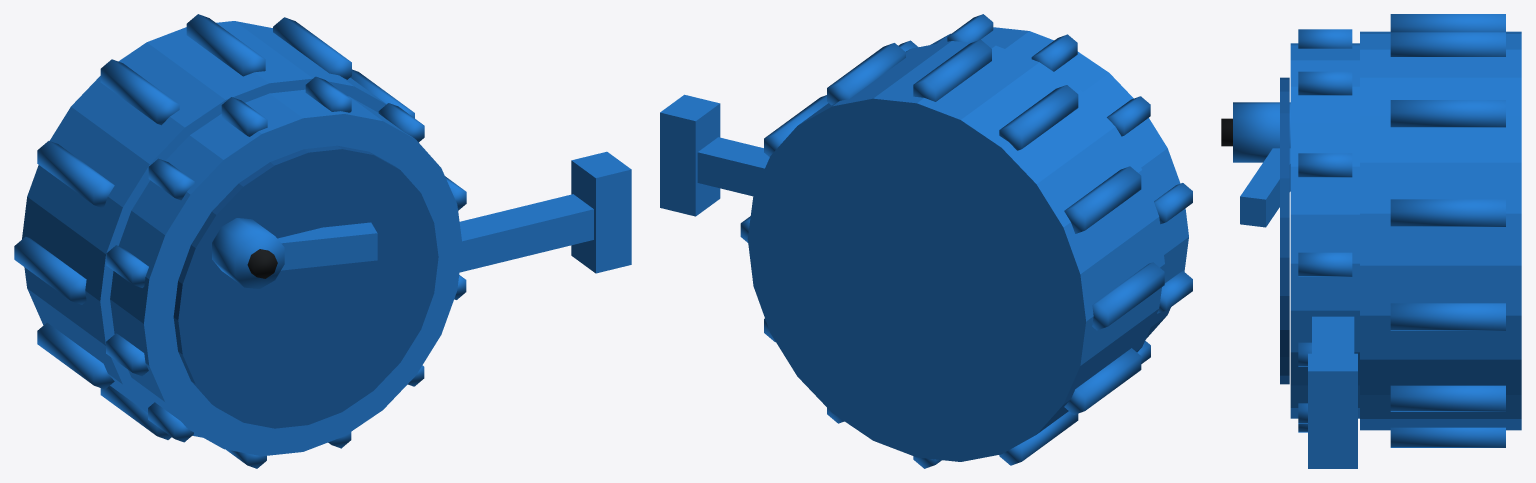
File: straw-cutter.glb
3 renders of one model, left to right at view 1: azimuth 30°, elevation 25°; view 2: azimuth 150°, elevation 25°; view 3: azimuth 270°, elevation 25°, orthographic. The views are drawn at different scales.
Parts seen in each view (by area): view 1: straw-cutter; view 2: straw-cutter; view 3: straw-cutter.
Part boxes in pixels (<box>): straw-cutter: <box>14,14,631,468</box>; straw-cutter: <box>660,14,1192,468</box>; straw-cutter: <box>1221,14,1521,468</box>.
Size of the model in its own units: 0.16 by 0.114 by 0.078.
